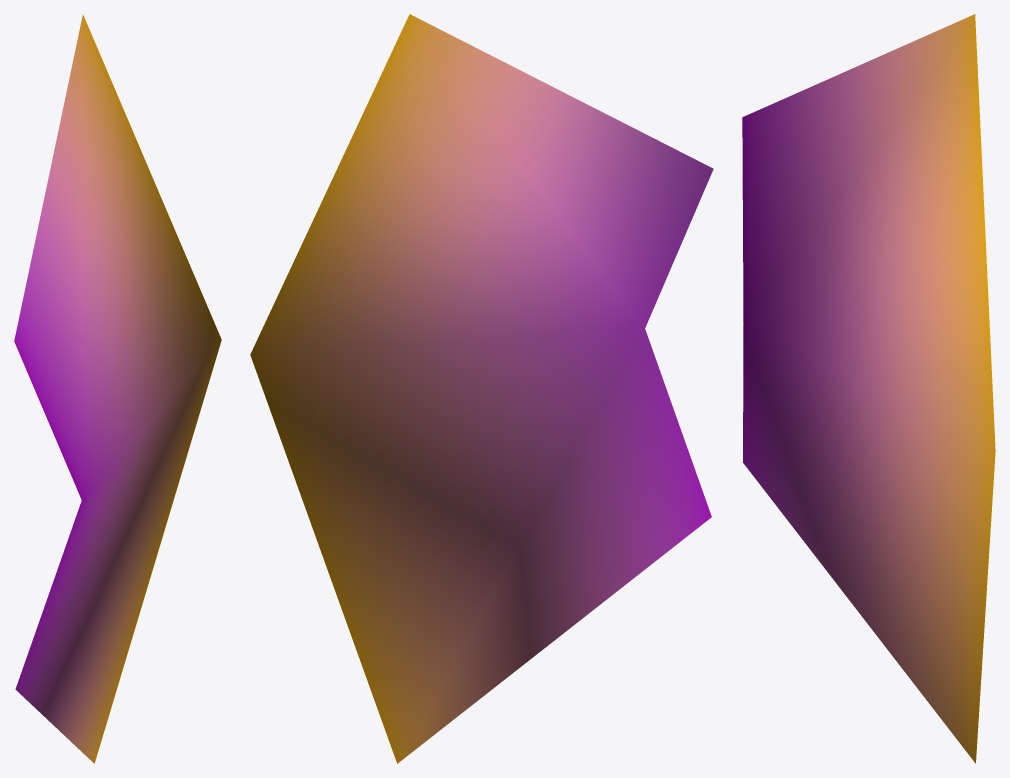
File: presssl.glb
3 renders of one model, left to right at view 1: azimuth 30°, elevation 25°; view 2: azimuth 150°, elevation 25°; view 3: azimuth 270°, elevation 25°, orthographic.
Visible parts, largest first — view 1: PressSLeft; view 2: PressSLeft; view 3: PressSLeft.
Part boxes in pixels (<box>): PressSLeft: <box>14,14,221,763</box>; PressSLeft: <box>250,14,713,763</box>; PressSLeft: <box>742,14,995,763</box>.
Bounding box in the file's own units: 0.1598 × 0.3425 × 0.1056.
